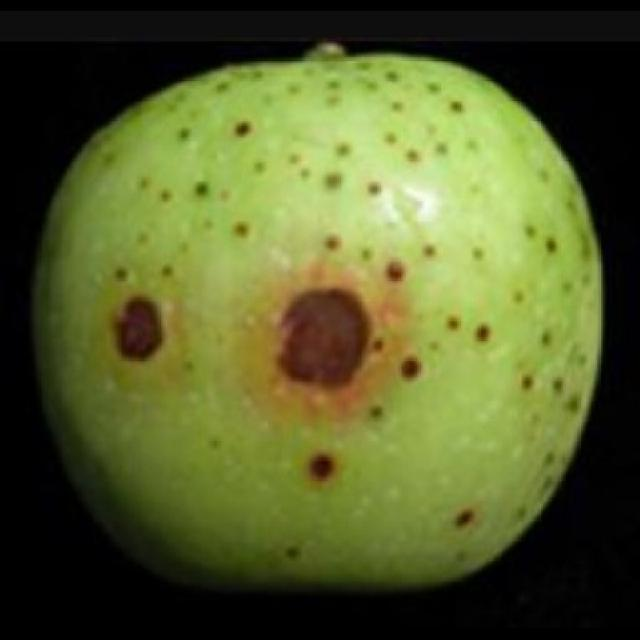Rotten Apple: (26, 47, 608, 598)
